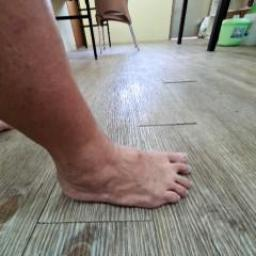Lateral View -Right Foot-: (33, 119, 210, 223)
